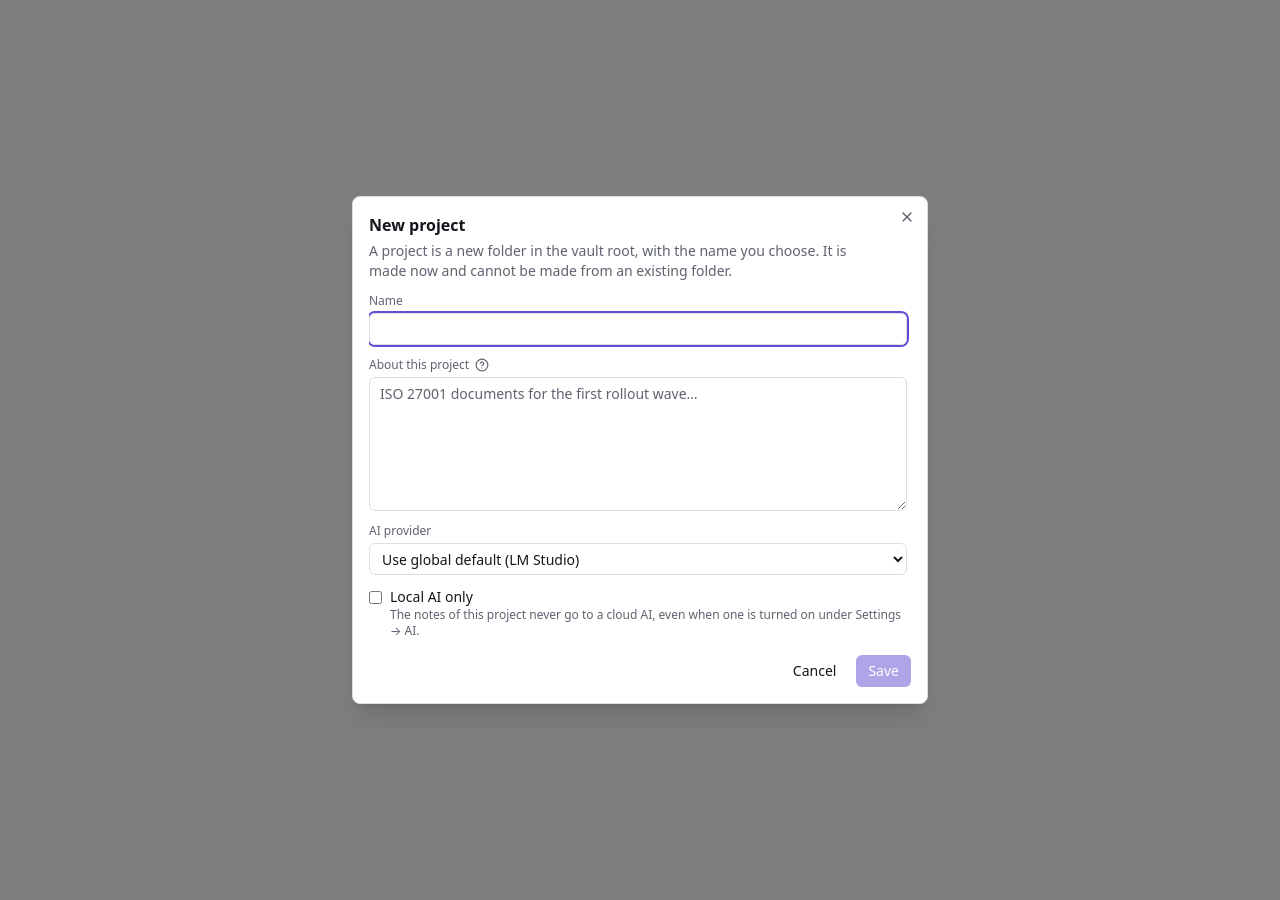
Scenario: ProjectForm › a new project is a new folder in the vault root: a name already used there is refused
The image size is (1280, 900).
Expected: the heading "New project" is shown, [369,214,466,236]
Expected: the text "cannot be made from an existing folder" is shown, [369,241,846,280]
Type "test" into the field labelled "Name". click: (638, 329)
box: [369,313,907,345]
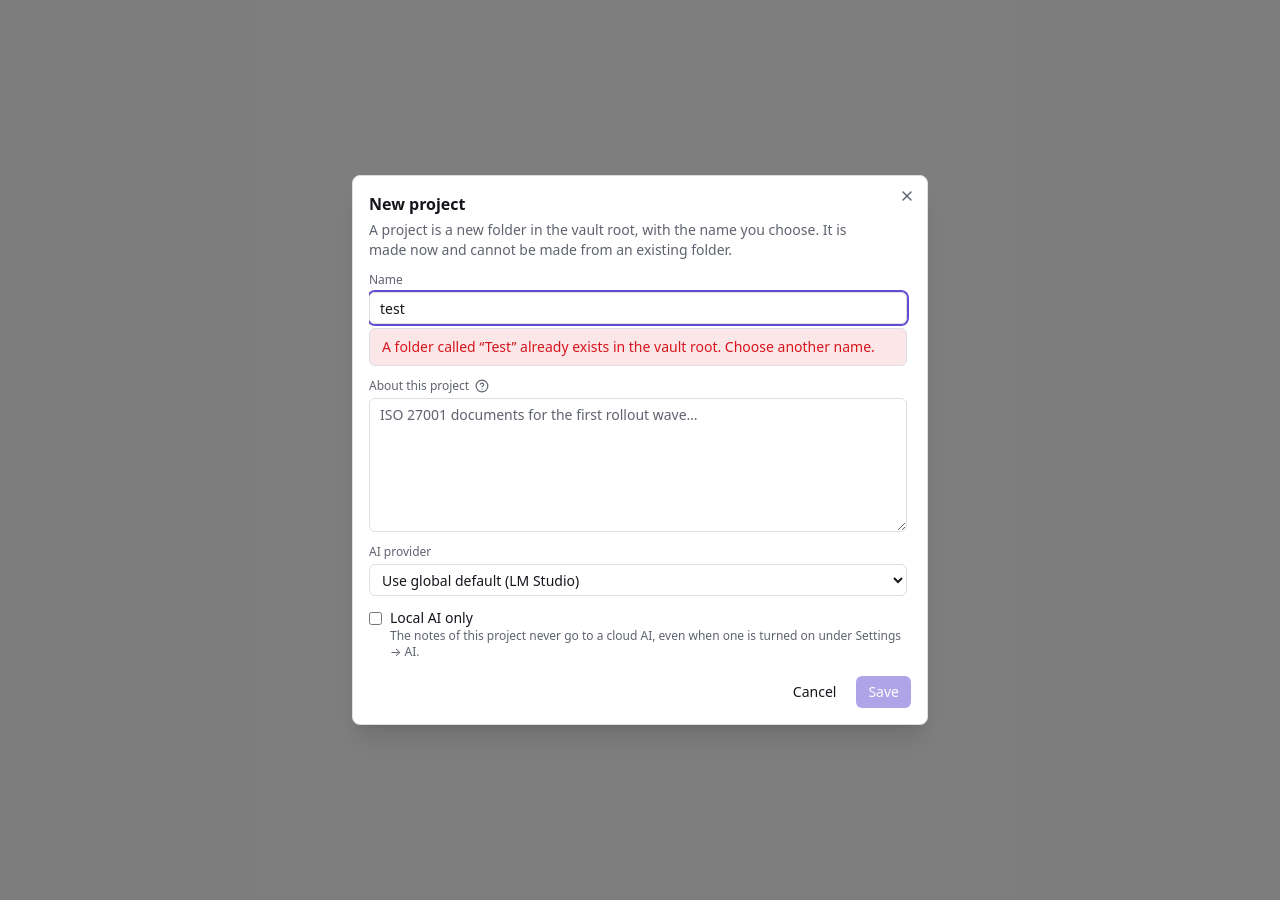
Expected: the button "Save" is disabled, [856,676,911,708]
Result: the message shows "A folder called “Test” already exists in the vault root." at [382,337,875,356]
Replace the text in the field labelled "Name" with "Fresh". click: (638, 308)
box: [369,292,907,324]
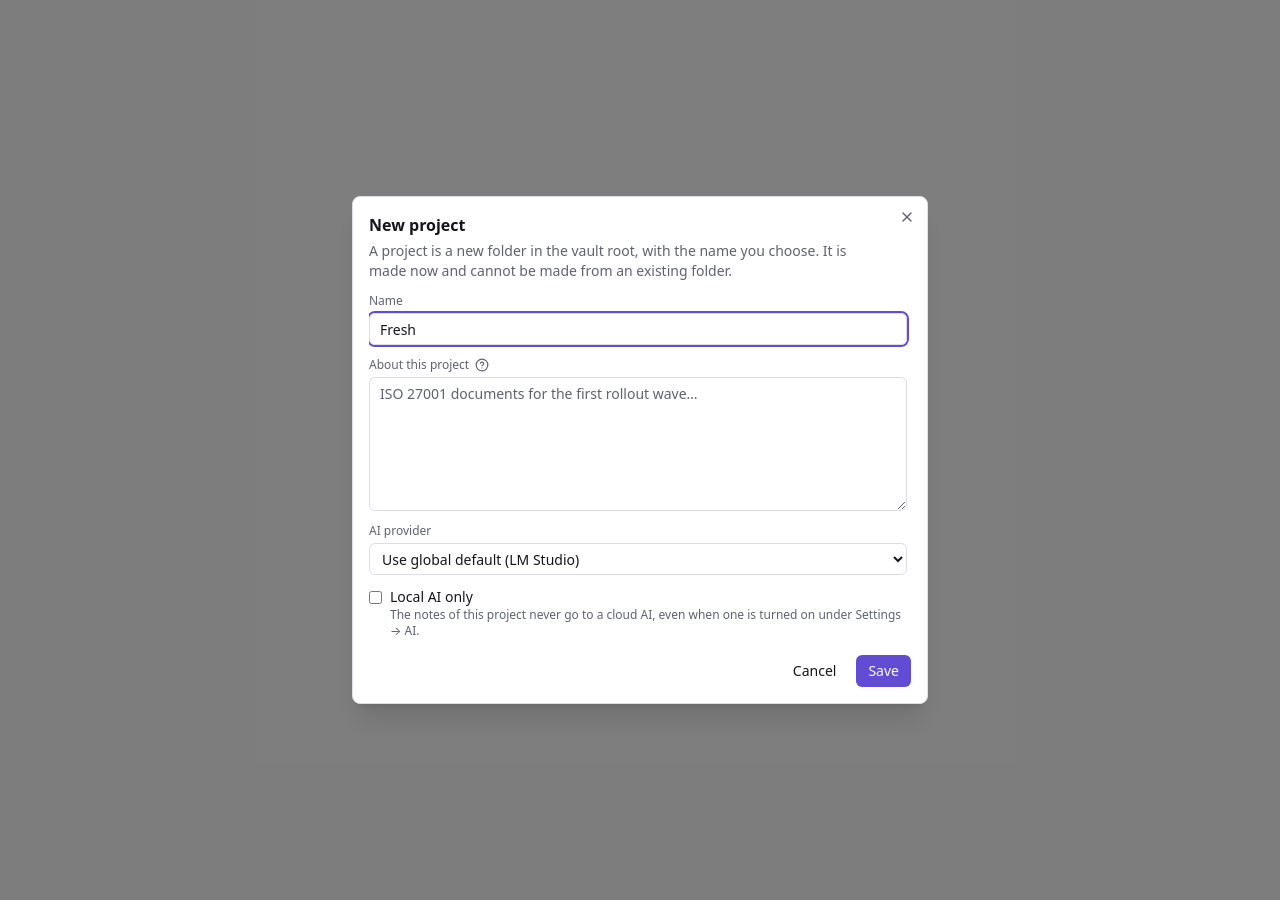
Result: the message "A folder called “Test” already exists in the vault root. Choose another name." is gone
Result: the button "Save" is enabled at [856,655,911,687]
